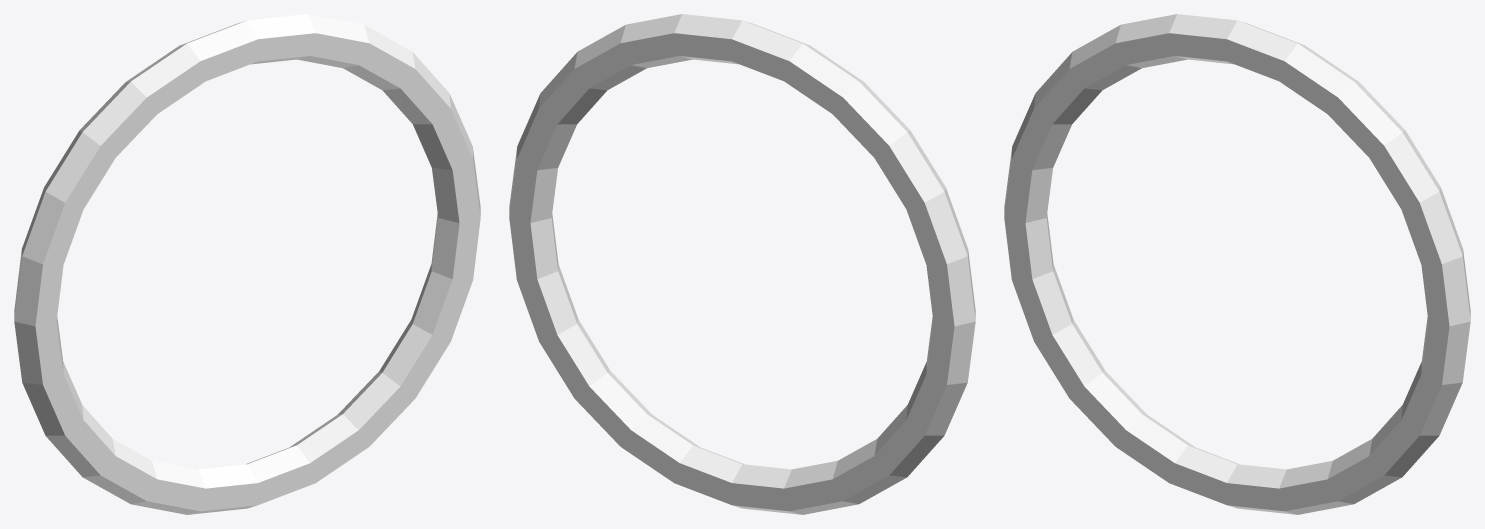
The model's file is 1mRing.obj.
The picture shows the model from 3 angles, left to right: view 1: azimuth 30°, elevation 25°; view 2: azimuth 150°, elevation 25°; view 3: azimuth 330°, elevation 25°; orthographic projection.
Parts seen in each view (by area): view 1: トーラス; view 2: トーラス; view 3: トーラス.
Boxes of the visible parts, x1,y1,x2,y2 form: トーラス: [14, 14, 480, 514]; トーラス: [509, 14, 975, 514]; トーラス: [1004, 14, 1470, 514].
Size of the model in its own units: 1.1 by 1.1 by 0.0866.
1 material, 1 textured.
